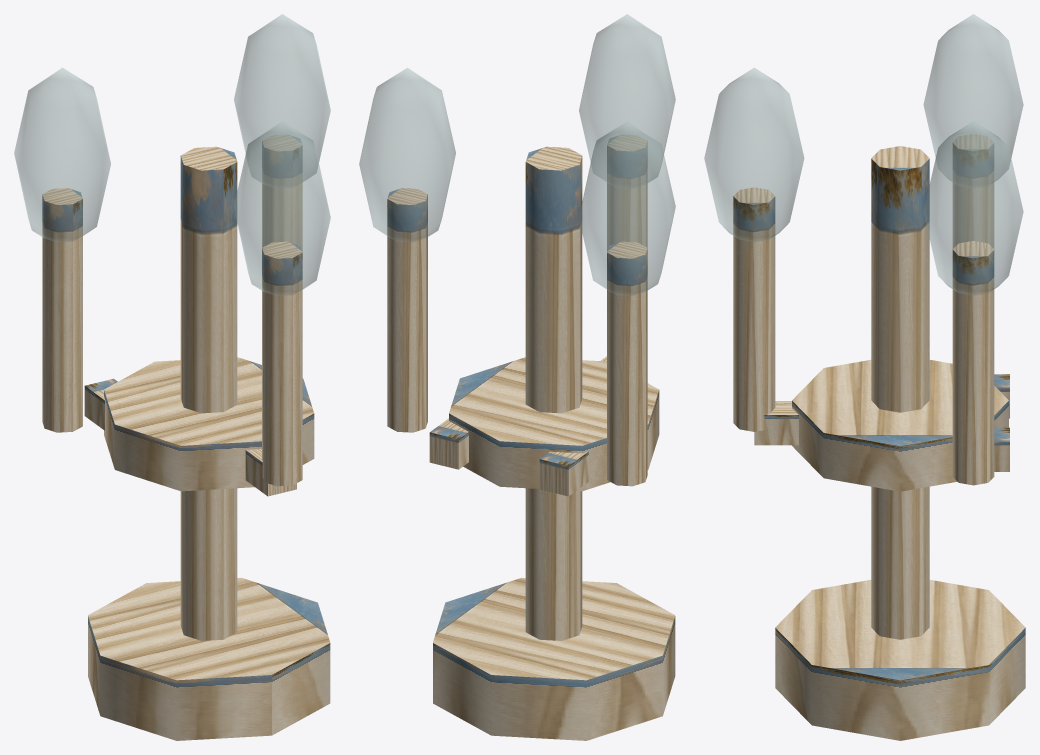
File: wall-sconce.gltf
3 renders of one model, left to right at view 1: azimuth 30°, elevation 25°; view 2: azimuth 150°, elevation 25°; view 3: azimuth 270°, elevation 25°, orthographic.
Parts seen in each view (by area): view 1: kit:0:furniture:gold:, kit:0:furniture:glass:; view 2: kit:0:furniture:gold:, kit:0:furniture:glass:; view 3: kit:0:furniture:gold:, kit:0:furniture:glass:.
Part boxes in pixels (left/top/right/bottom): kit:0:furniture:gold:: left=42, top=134, right=330, bottom=740; kit:0:furniture:glass:: left=14, top=14, right=330, bottom=295; kit:0:furniture:gold:: left=387, top=134, right=675, bottom=740; kit:0:furniture:glass:: left=359, top=14, right=675, bottom=295; kit:0:furniture:gold:: left=733, top=134, right=1025, bottom=740; kit:0:furniture:glass:: left=704, top=14, right=1023, bottom=295.
Size of the model in its own units: 0.4231 by 0.82 by 0.385.
2 materials, 1 textured.
